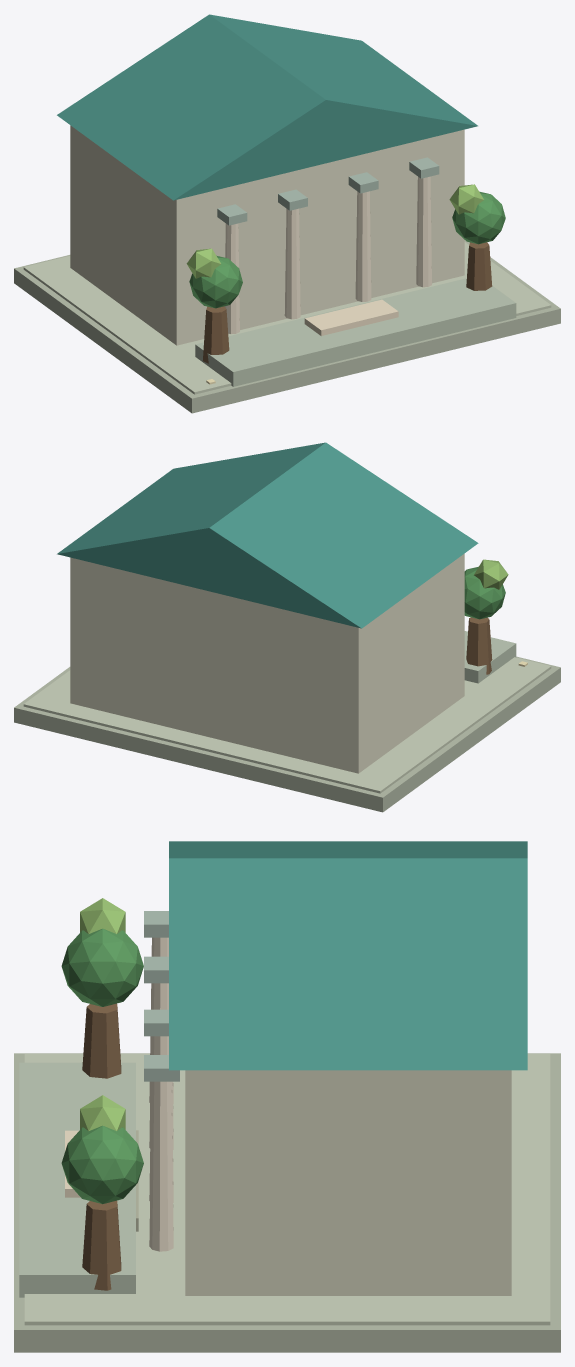
File: bank-lv2.obj
3 views of the same model, one above another, from view 1: azimuth 30°, elevation 25°; view 2: azimuth 150°, elevation 25°; view 3: azimuth 270°, elevation 25° (orthographic). The views are drawn at different scales.
Visible parts, largest first — view 1: bank_3, bank_4, bank_15, bank_0, bank_1, bank_13, bank_17, bank_16, bank_14, bank_12, bank_18; view 2: bank_3, bank_4, bank_1, bank_0, bank_17, bank_16, bank_15, bank_18; view 3: bank_4, bank_3, bank_1, bank_0, bank_15, bank_17, bank_16, bank_13, bank_14, bank_18.
Part boxes in pixels (<box>): bank_3: <box>70,125,464,345</box>; bank_4: <box>57,14,477,200</box>; bank_15: <box>195,278,516,386</box>; bank_0: <box>14,240,560,413</box>; bank_1: <box>23,242,551,394</box>; bank_13: <box>224,176,431,333</box>; bank_17: <box>189,191,505,308</box>; bank_16: <box>203,242,492,363</box>; bank_14: <box>217,157,439,225</box>; bank_12: <box>304,299,398,335</box>; bank_18: <box>186,184,483,278</box>; bank_3: <box>70,553,464,773</box>; bank_4: <box>57,442,478,628</box>; bank_1: <box>23,657,551,793</box>; bank_0: <box>14,656,560,812</box>; bank_17: <box>464,566,505,619</box>; bank_16: <box>466,617,492,674</box>; bank_15: <box>464,631,516,683</box>; bank_18: <box>474,559,508,589</box>; bank_4: <box>169,841,527,1070</box>; bank_3: <box>185,1070,511,1295</box>; bank_1: <box>24,1054,550,1325</box>; bank_0: <box>14,1053,560,1352</box>; bank_15: <box>19,1062,135,1297</box>; bank_17: <box>61,928,143,1204</box>; bank_16: <box>82,1003,121,1290</box>; bank_13: <box>149,937,173,1251</box>; bank_14: <box>144,911,179,1081</box>; bank_18: <box>80,898,125,1131</box>.
Size of the model in its own units: 3.65 by 2.19 by 3.05.
